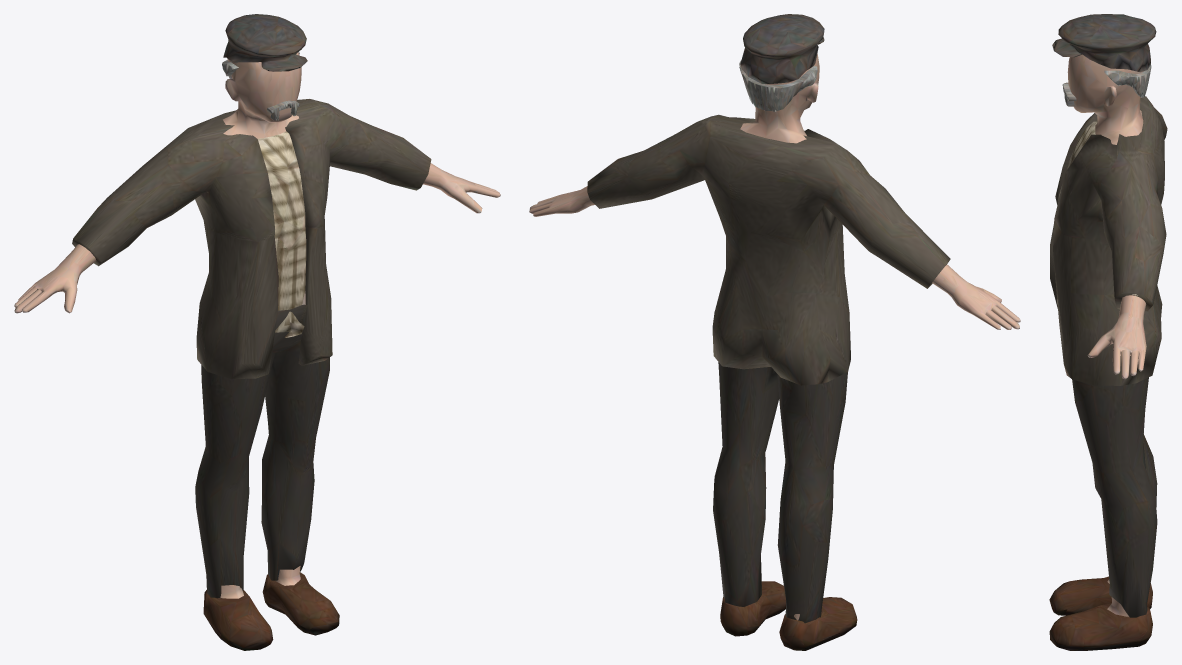
The model's file is npc_x_grandpa1.glb.
3 renders of one model, left to right at view 1: azimuth 30°, elevation 25°; view 2: azimuth 150°, elevation 25°; view 3: azimuth 270°, elevation 25°, orthographic.
Parts seen in each view (by area): view 1: Human; view 2: Human; view 3: Human.
Boxes of the visible parts, x1,y1,x2,y2 form: Human: (14, 14, 500, 650); Human: (529, 14, 1020, 650); Human: (1049, 14, 1167, 650).
Bounding box in the file's own units: 1.48 × 1.75 × 0.3096.
Materials: 1 (1 with a texture image).
